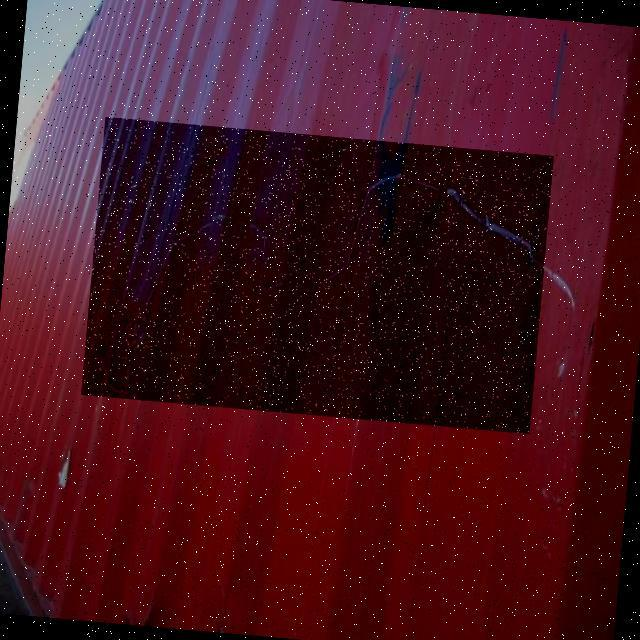Dent: (81, 117, 554, 434)
